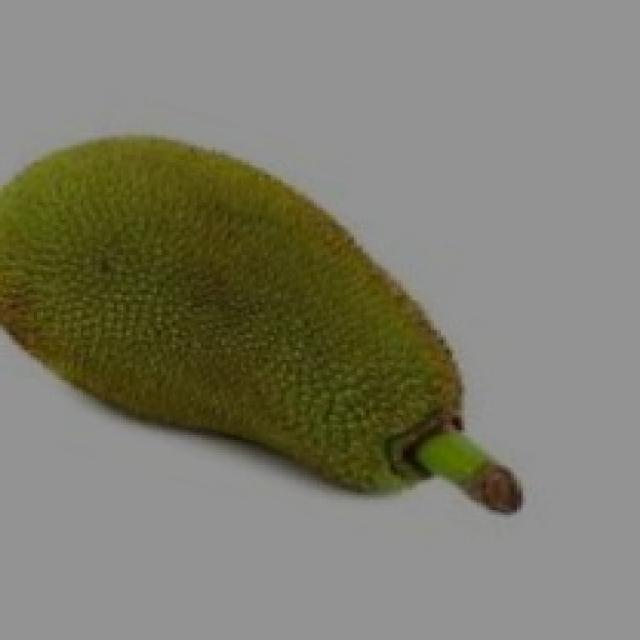Fruit: (0, 115, 403, 490)
